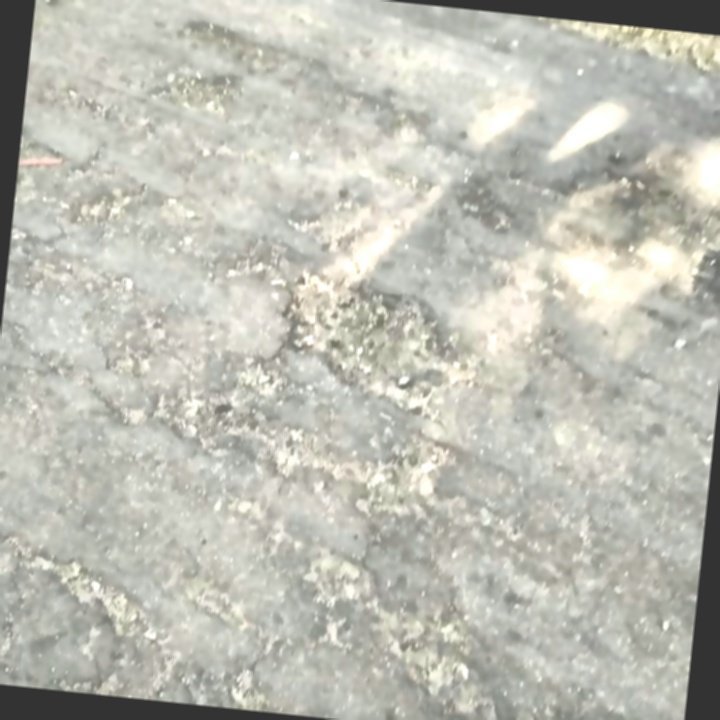pothole: (264, 259, 491, 420)
